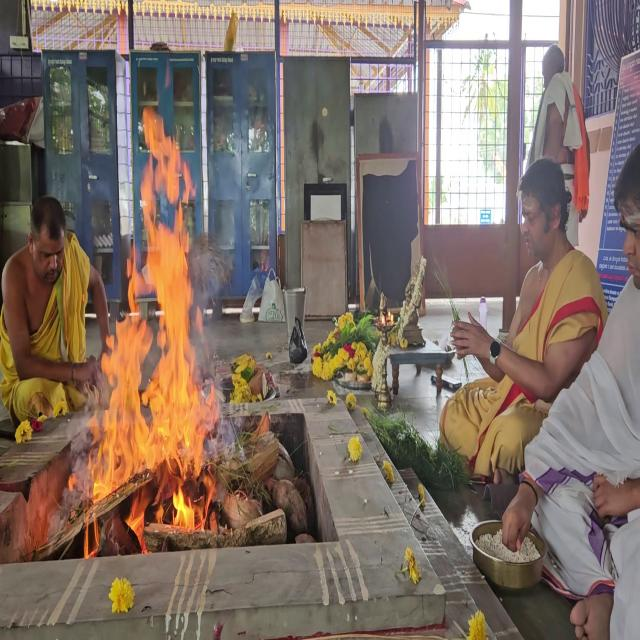fire: (63, 100, 223, 552)
